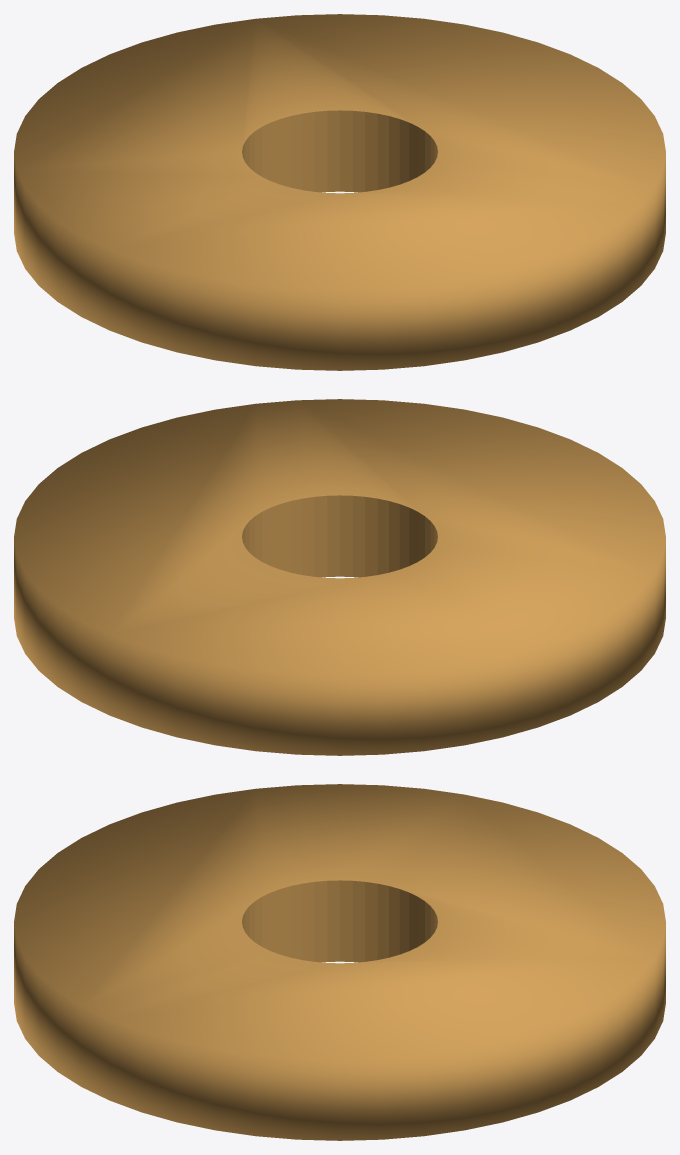
3 views of the same model, one above another, from view 1: azimuth 30°, elevation 25°; view 2: azimuth 150°, elevation 25°; view 3: azimuth 270°, elevation 25° (orthographic).
Visible parts, largest first — view 1: component:gold_002:member:11; view 2: component:gold_002:member:11; view 3: component:gold_002:member:11.
Part boxes in pixels (x1,y1,x2,y2): component:gold_002:member:11: (14,14,665,370); component:gold_002:member:11: (14,399,665,755); component:gold_002:member:11: (14,784,665,1140).
Size of the model in its own units: 0.004 by 0.00055 by 0.004.
